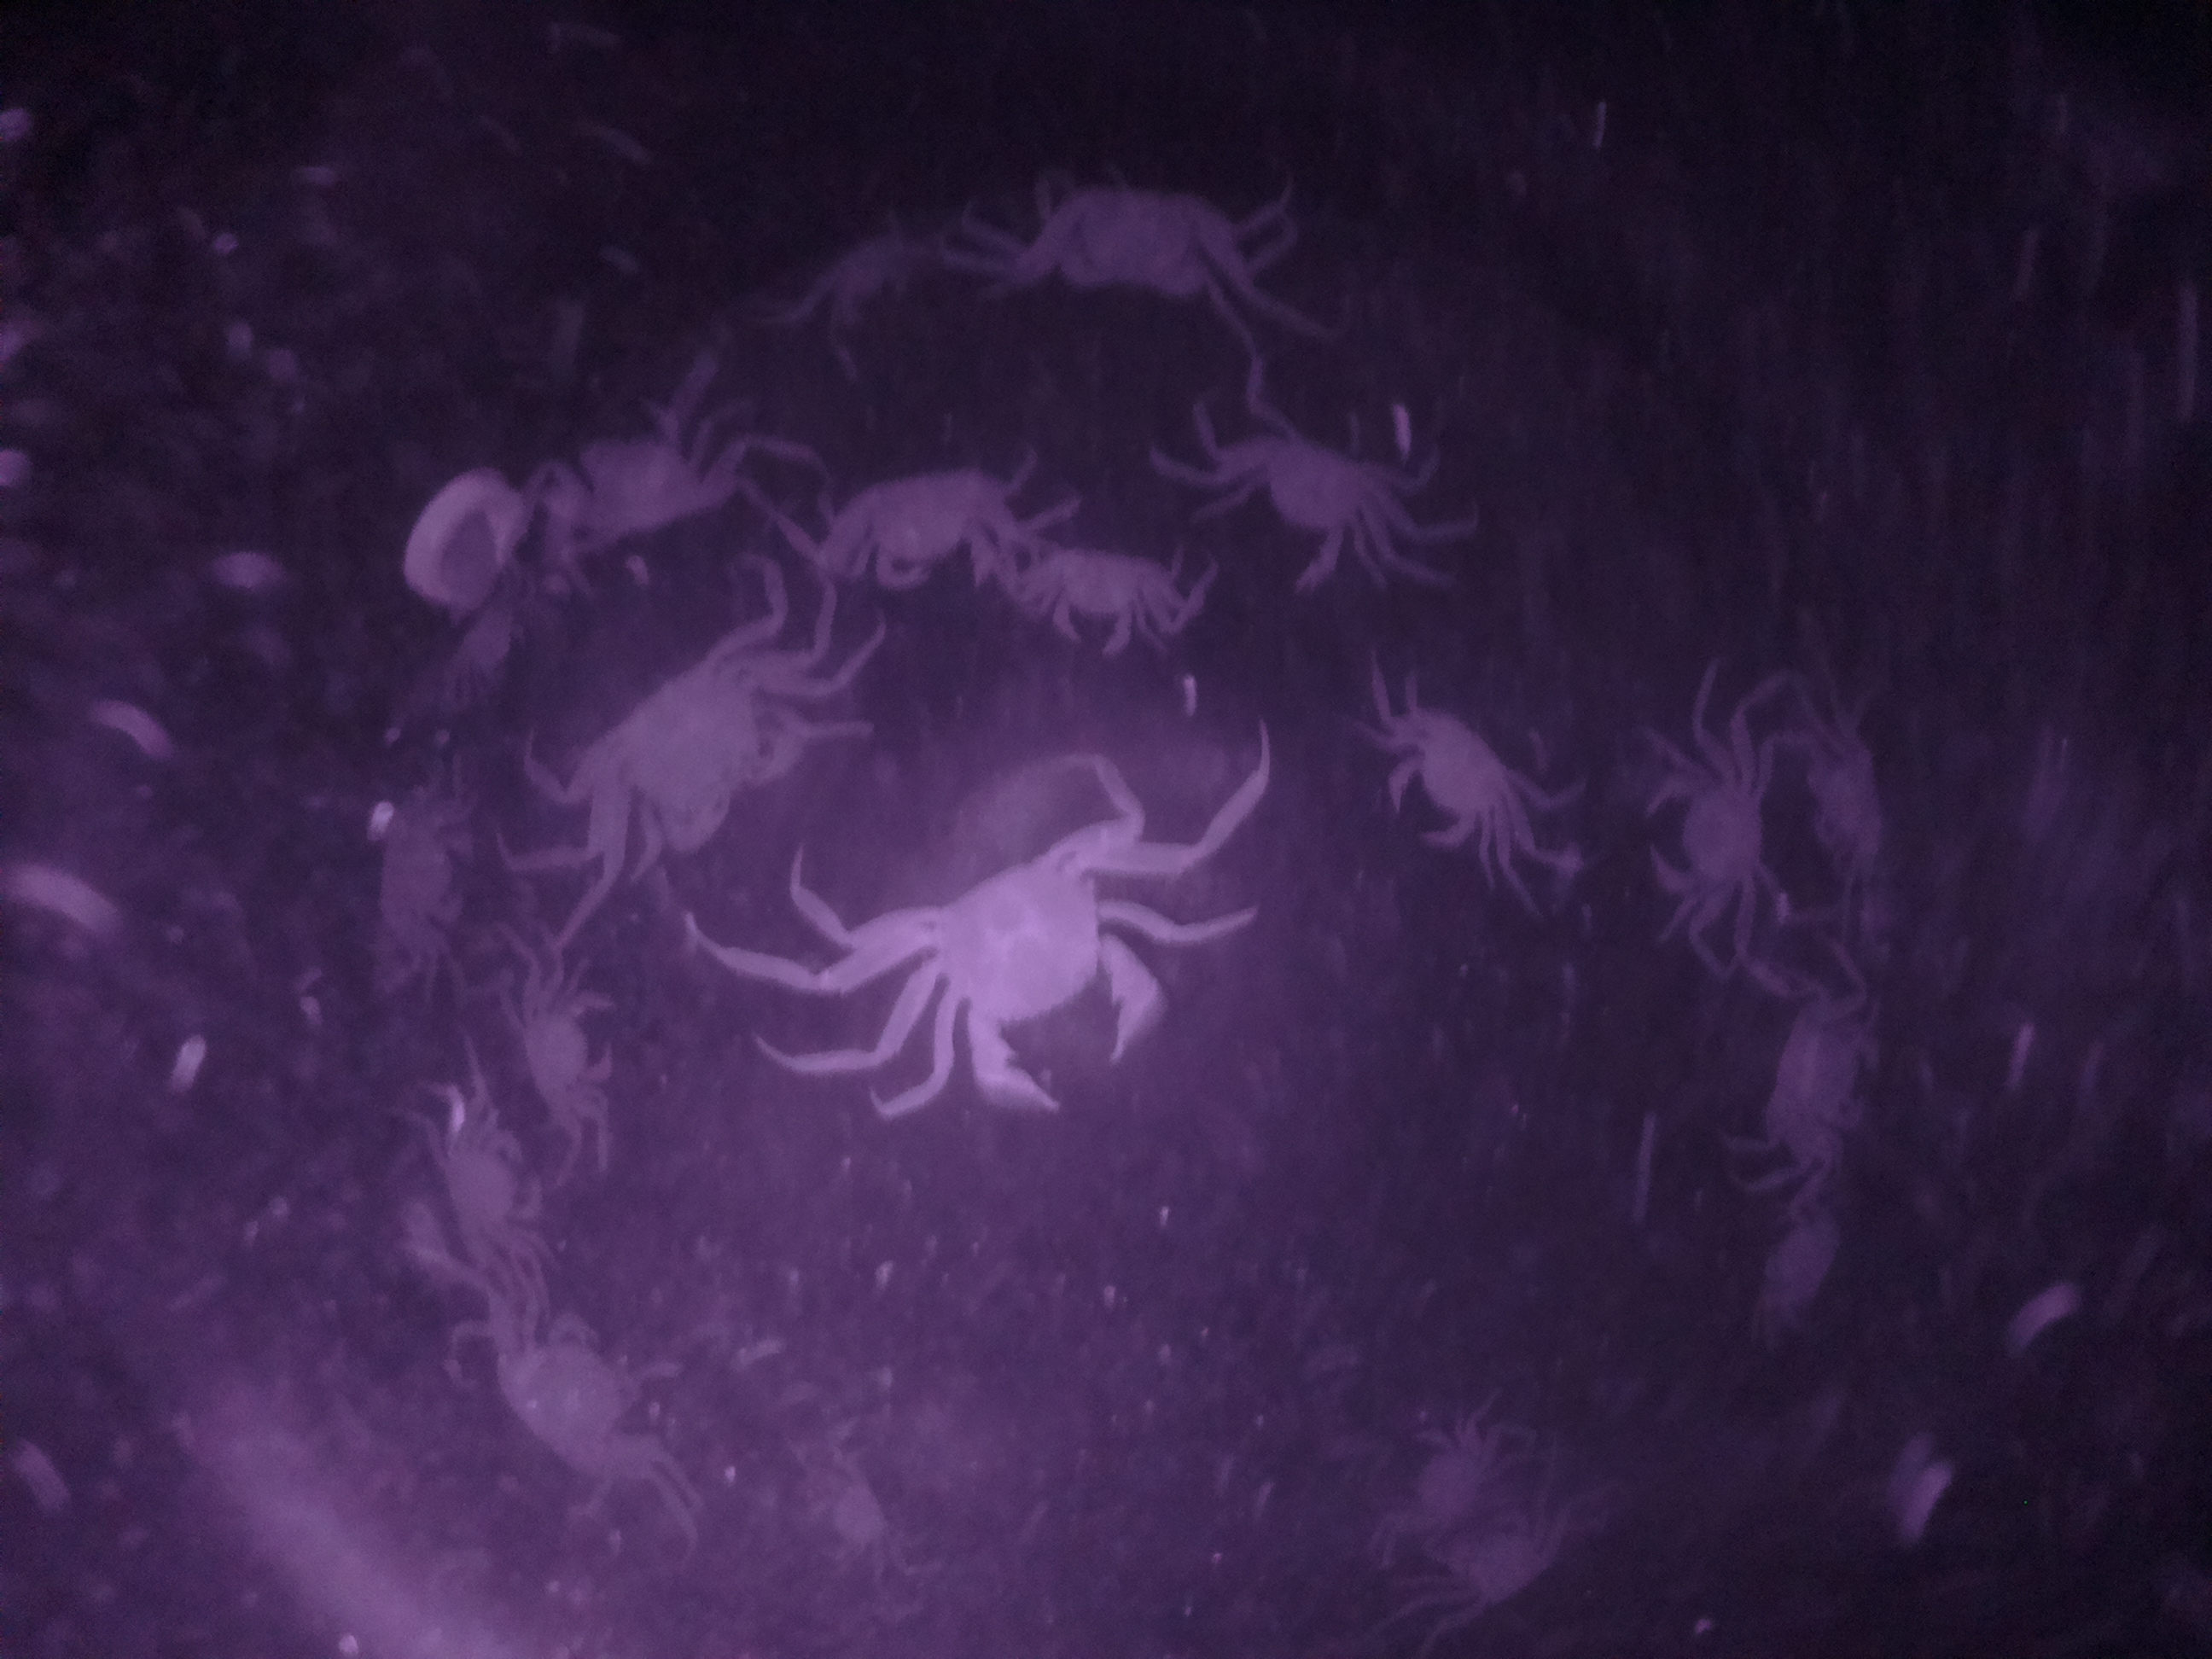Crab: (894, 821, 1163, 1129), (557, 624, 808, 866), (488, 1297, 664, 1516), (1616, 748, 1787, 913), (1366, 699, 1526, 859), (482, 974, 643, 1121), (1007, 538, 1179, 660)
